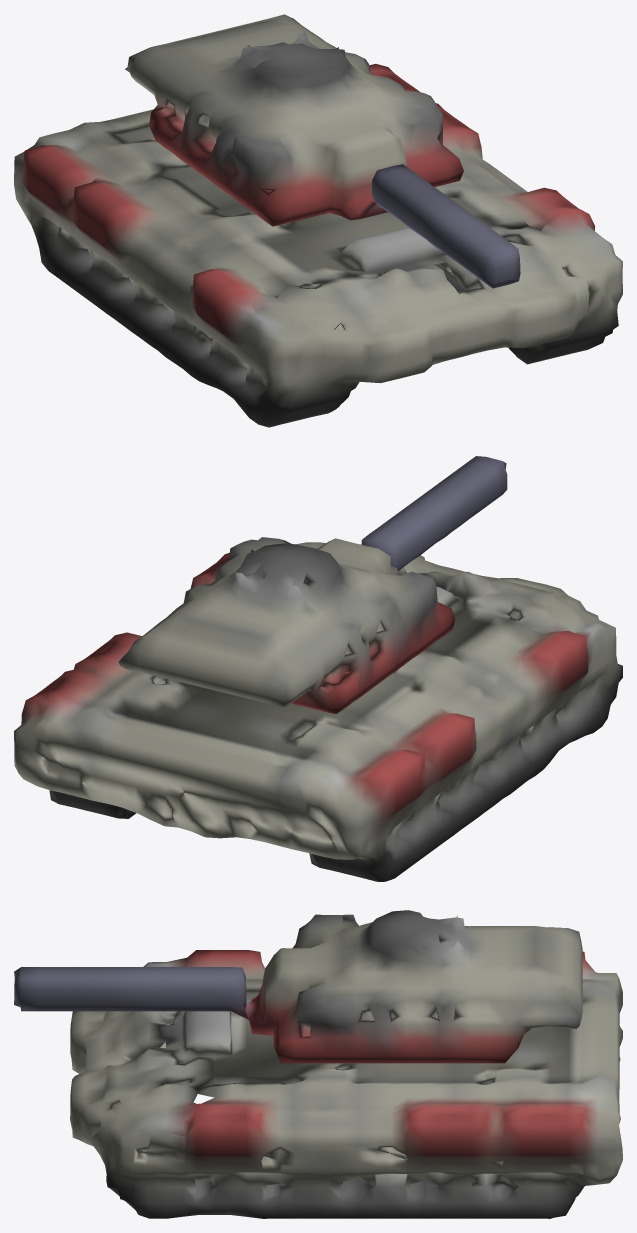
File: rhino_tank.glb
The picture shows the model from 3 angles, top to bottom: view 1: azimuth 30°, elevation 25°; view 2: azimuth 150°, elevation 25°; view 3: azimuth 270°, elevation 25°; orthographic projection. The views are drawn at different scales.
Visible parts, largest first — view 1: rhino_tank; view 2: rhino_tank; view 3: rhino_tank.
Part boxes in pixels (x1,y1,x2,y2): rhino_tank: (14, 14, 622, 427); rhino_tank: (14, 456, 622, 881); rhino_tank: (14, 910, 622, 1218).
Bounding box in the file's own units: 2.8 × 1.65 × 4.14.
